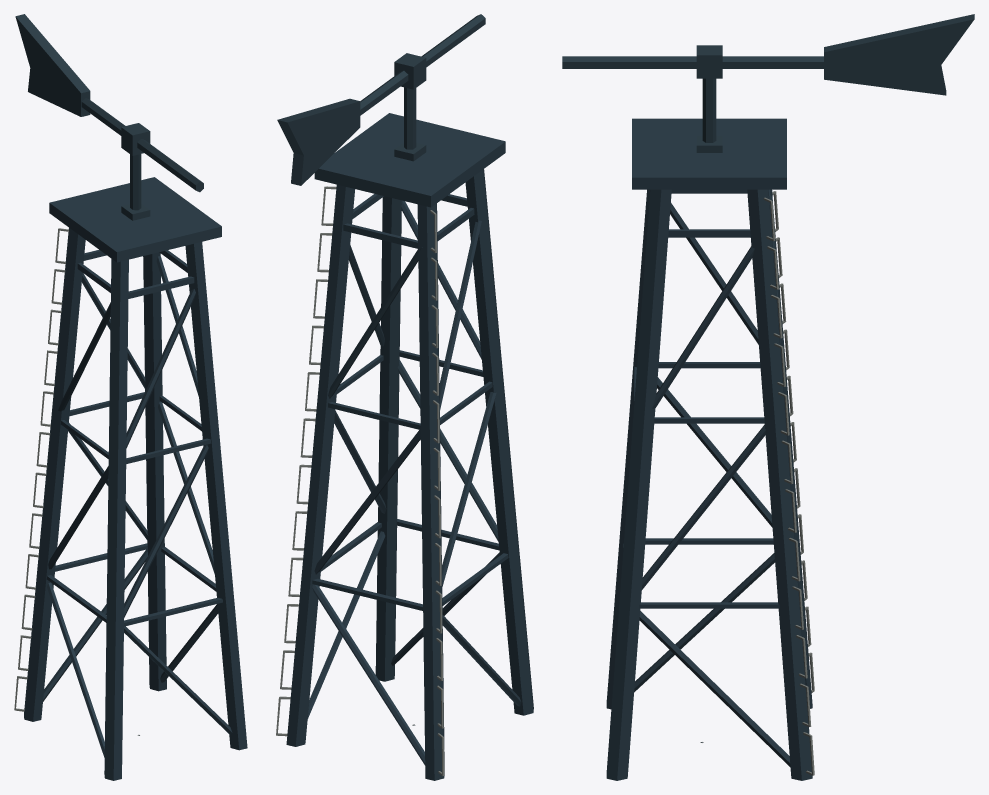
Rendered from Windmill_01.gltf.
3 renders of one model, left to right at view 1: azimuth 30°, elevation 25°; view 2: azimuth 150°, elevation 25°; view 3: azimuth 270°, elevation 25°, orthographic. The views are drawn at different scales.
Visible parts, largest first — view 1: Windmill_01, WindmillTop_A; view 2: Windmill_01, WindmillTop_A; view 3: Windmill_01, WindmillTop_A.
Part boxes in pixels (x1,y1,x2,y2): Windmill_01: [14, 177, 247, 780]; WindmillTop_A: [15, 14, 203, 220]; Windmill_01: [276, 113, 533, 780]; WindmillTop_A: [277, 14, 485, 185]; Windmill_01: [606, 118, 814, 780]; WindmillTop_A: [562, 14, 974, 152].
Bounding box in the file's own units: 1.09 × 4.33 × 2.23.
